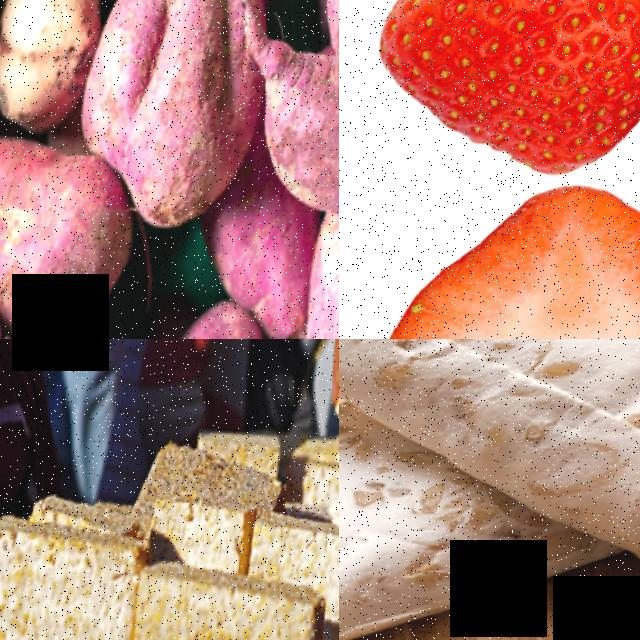strawberry: (361, 0, 640, 204), (379, 171, 640, 339)
sweet potato: (68, 0, 284, 236), (0, 127, 143, 339), (242, 3, 339, 255), (165, 294, 288, 339)
tempeh: (339, 394, 523, 640), (339, 339, 640, 408), (129, 543, 339, 640), (0, 507, 150, 640)
